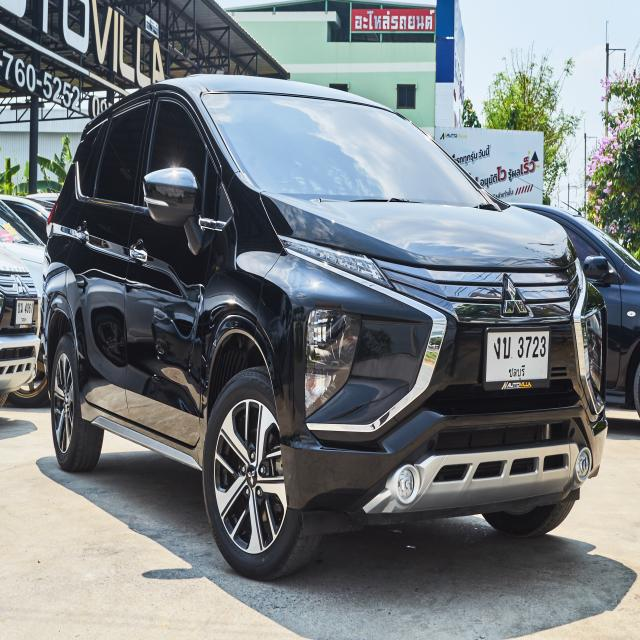license_plate: (480, 324, 556, 393)
